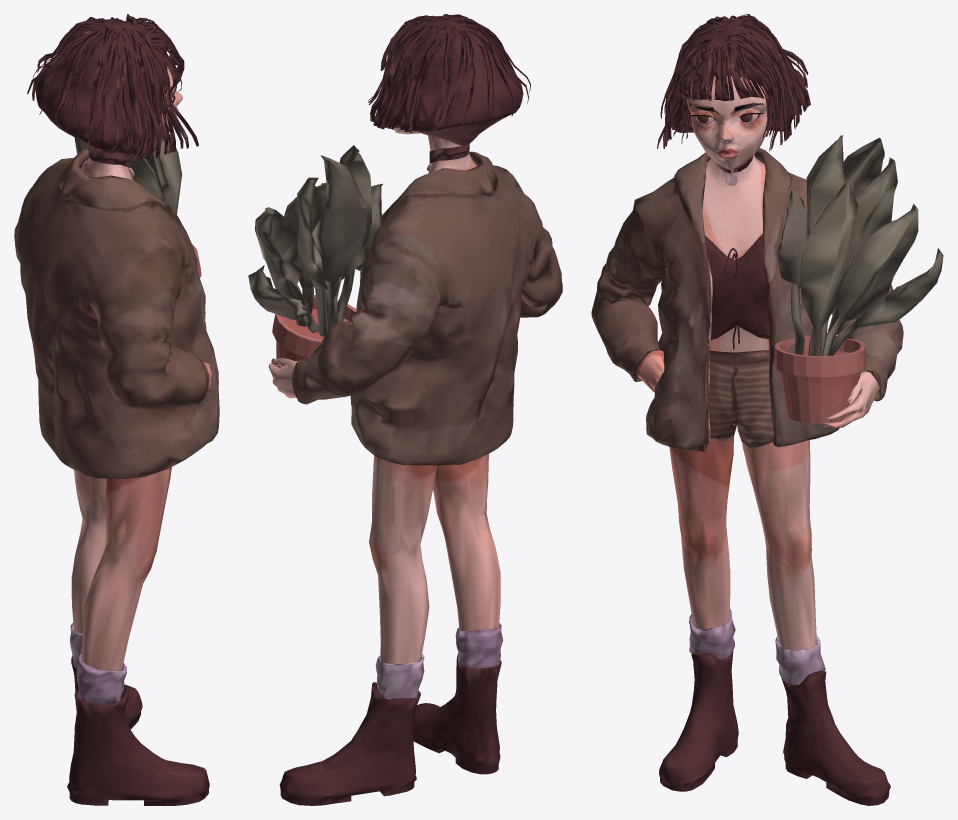
The model's file is matylda.glb.
3 views of the same model, side by side, from view 1: azimuth 30°, elevation 25°; view 2: azimuth 150°, elevation 25°; view 3: azimuth 270°, elevation 25° (orthographic). The views are drawn at different scales.
Size of the model in its own units: 0.4443 by 1.6 by 0.6933.
Materials: 1 (1 with a texture image).
